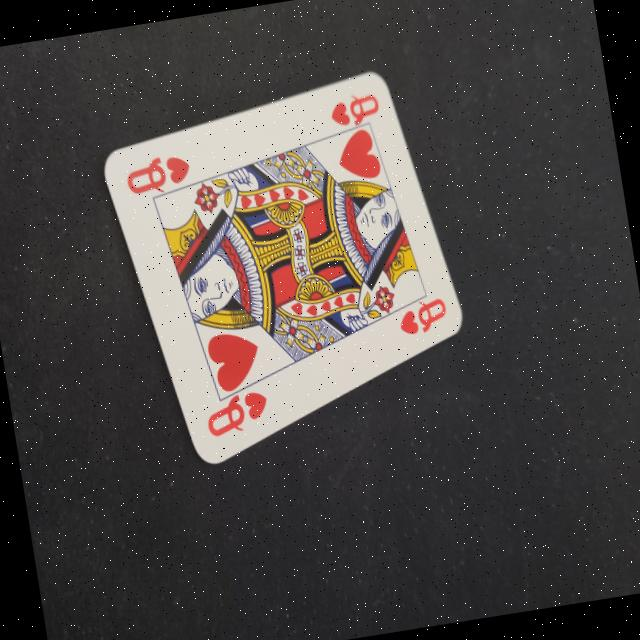Qh: (118, 140, 198, 210), (194, 381, 278, 446), (385, 292, 451, 345), (321, 84, 385, 138)
